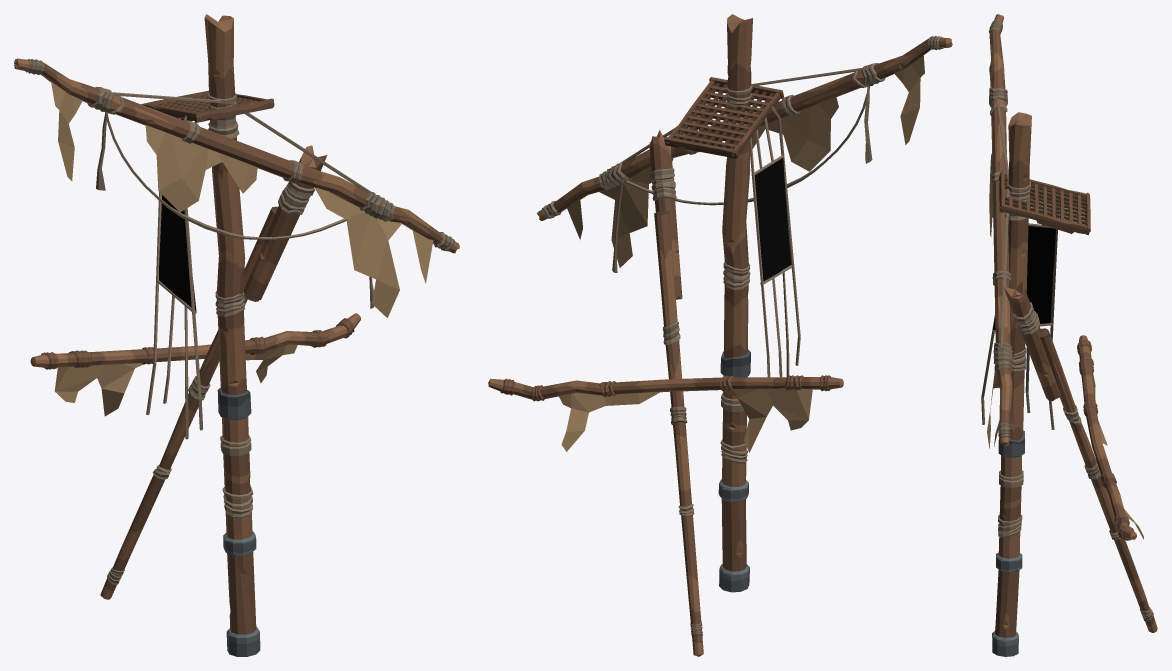
File: SM_Prop_Wreck_Mast_Small_01.fbx
3 views of the same model, side by side, from view 1: azimuth 30°, elevation 25°; view 2: azimuth 150°, elevation 25°; view 3: azimuth 270°, elevation 25° (orthographic). The views are drawn at different scales.
Parts seen in each view (by area): view 1: SM_Prop_Wreck_Mast_Small_01; view 2: SM_Prop_Wreck_Mast_Small_01; view 3: SM_Prop_Wreck_Mast_Small_01.
Boxes of the visible parts, box(x1,y1,x2,y2) form: SM_Prop_Wreck_Mast_Small_01: box(14, 14, 459, 656); SM_Prop_Wreck_Mast_Small_01: box(488, 14, 952, 656); SM_Prop_Wreck_Mast_Small_01: box(981, 14, 1157, 656).
Size of the model in its own units: 1450 by 2022 by 592.
